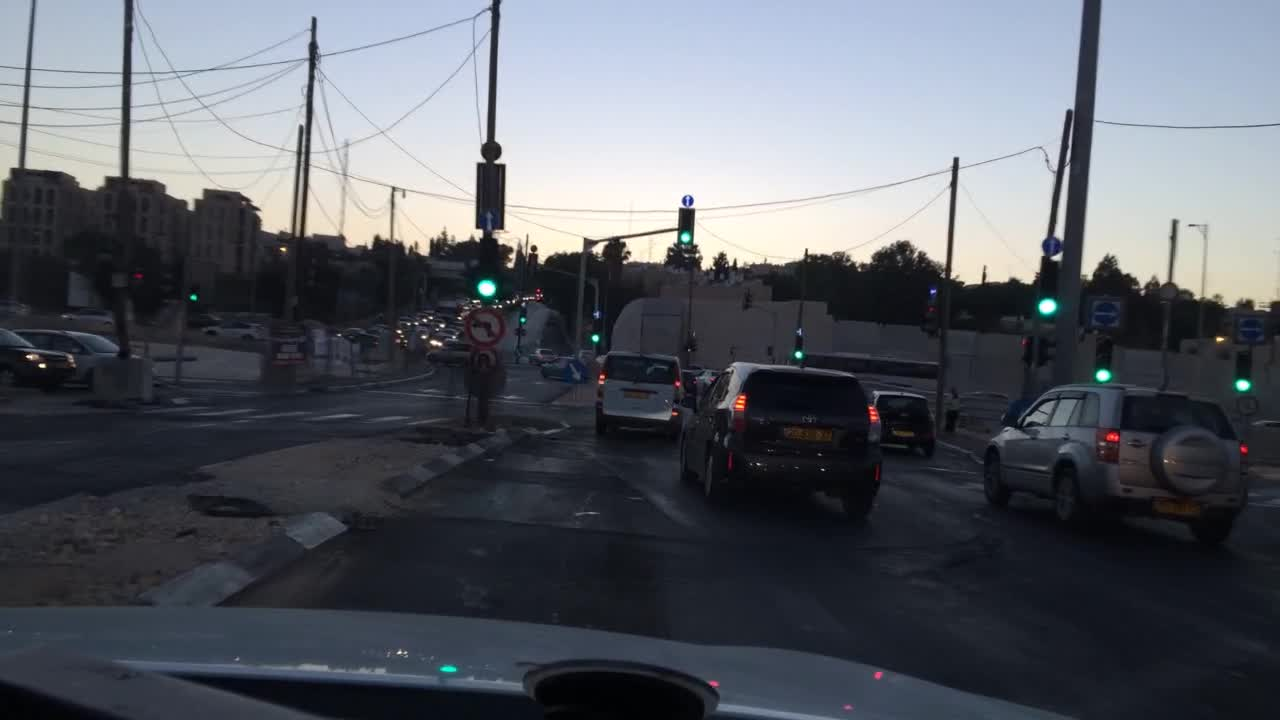bus: (799, 351, 937, 393)
car: (980, 380, 1251, 542), (678, 360, 885, 516), (591, 349, 684, 441), (10, 327, 136, 390), (867, 388, 936, 461), (0, 327, 74, 388), (202, 318, 265, 341), (540, 355, 577, 378), (693, 369, 722, 395), (678, 367, 695, 406), (188, 310, 221, 327), (964, 388, 1008, 400), (335, 325, 365, 340), (529, 347, 555, 364), (433, 333, 460, 344), (393, 331, 408, 348), (441, 326, 462, 338), (1252, 418, 1277, 428), (395, 314, 414, 326), (423, 338, 441, 349), (412, 314, 430, 325), (448, 316, 465, 327), (382, 322, 402, 331), (502, 296, 518, 307), (414, 322, 427, 334), (415, 308, 433, 316), (365, 327, 381, 336), (445, 322, 459, 331)
person: (941, 387, 959, 431)
traffic light: (477, 237, 498, 299), (1038, 257, 1057, 316), (1092, 333, 1112, 383), (1233, 349, 1250, 392), (919, 302, 938, 336), (1037, 331, 1055, 365), (678, 208, 694, 244), (1019, 334, 1032, 362), (129, 266, 144, 284), (793, 334, 803, 360), (684, 333, 695, 354), (591, 320, 600, 343), (188, 281, 197, 301), (516, 307, 525, 325), (513, 325, 526, 337)
traffic sign: (476, 161, 505, 228), (267, 323, 307, 360), (463, 307, 502, 342), (1088, 296, 1122, 330), (1233, 313, 1267, 342), (471, 345, 498, 373), (563, 361, 586, 384), (479, 138, 500, 158), (478, 210, 498, 230), (1160, 280, 1176, 300), (1043, 237, 1061, 254), (680, 193, 693, 206), (927, 285, 938, 297), (591, 309, 601, 318), (793, 325, 804, 333)
